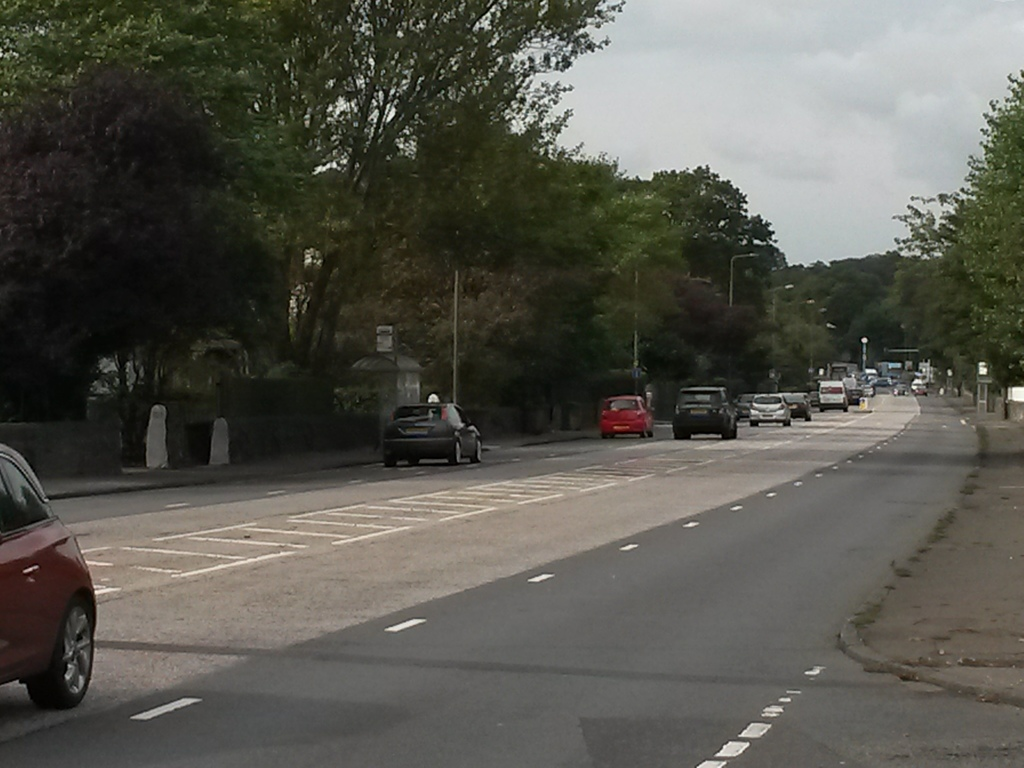Car: (0, 442, 96, 709), (669, 383, 818, 437), (384, 403, 483, 465), (599, 394, 652, 438), (890, 369, 929, 394), (848, 387, 863, 404), (870, 376, 888, 385), (862, 383, 872, 396), (874, 383, 875, 395)
